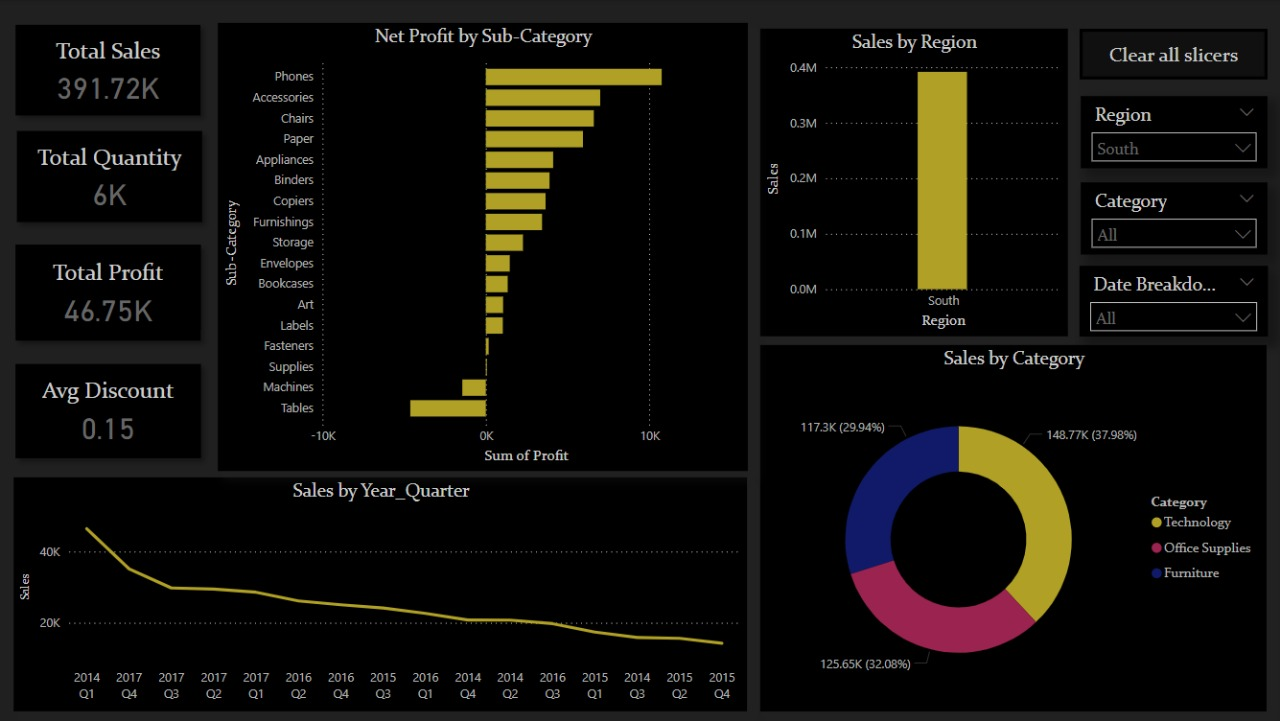

This screenshot's page, from the dashboard's own definition file:
{"tool":"powerbi","page":{"name":"Supermarket Sales Dashboard","canvas":[1280,720],"ordinal":0},"visuals":[{"type":"cardVisual","fields":{"Data":["Sum(Superstore Sales.Sales)"]},"box":[0,6.5,219.6,125.2],"z":0},{"type":"cardVisual","fields":{"Data":["Sum(Superstore Sales.Quantity)"]},"box":[1.6,113.9,219.6,125.2],"z":1000},{"type":"lineChart","title":"Sales by Year_Quarter","fields":{"Y":["Sum(Superstore_Sales.Sales)"],"Category":["Superstore_Sales.Year_Quarter"]},"box":[16.3,475,730.3,232.6],"z":2000},{"type":"clusteredColumnChart","fields":{"Category":["Superstore_Sales.Region"],"Y":["Sum(Superstore_Sales.Sales)"]},"box":[759.6,29.3,305.8,305.8],"z":3000},{"type":"donutChart","title":"Sales by Category","fields":{"Y":["Sum(Superstore_Sales.Sales)"],"Category":["Superstore_Sales.Category"]},"box":[759.6,343.2,504.2,364.3],"z":4000},{"type":"slicer","fields":{"Values":["Superstore_Sales.Region"]},"box":[1078.4,96,185.4,71.6],"z":5000},{"type":"slicer","fields":{"Values":["Superstore_Sales.Category"]},"box":[1078.4,182.2,185.4,71.6],"z":6000},{"type":"clusteredBarChart","title":"Net Profit by Sub-Category","fields":{"Category":["Superstore_Sales.Sub-Category"],"Y":["Sum(Superstore_Sales.Profit)"]},"box":[219.6,22.8,527,445.7],"z":7000},{"type":"cardVisual","fields":{"Data":["Sum(Superstore_Sales.Profit)"]},"box":[0,226.1,219.6,130.1],"z":8000},{"type":"cardVisual","fields":{"Data":["Superstore_Sales.Avg Discount"]},"box":[0,344.8,219.6,128.5],"z":9000},{"type":"slicer","fields":{"Values":["Superstore_Sales.Order Date.Variation.Date Hierarchy.Year","Superstore_Sales.Order Date.Variation.Date Hierarchy.Quarter","Superstore_Sales.Order Date.Variation.Date Hierarchy.Month","Superstore_Sales.Order Date.Variation.Date Hierarchy.Day"]},"box":[1076.8,265.1,187.1,69.9],"z":10000},{"type":"actionButton","box":[1076.8,29.3,187.1,50.4],"z":13000}]}

Visuals, with their boxes in screenshot pixels (x1, y1, x2, y2), scaled from the page's 1280x720 canvas onto the 1280x721 screenshot:
cardVisual - Sum(Superstore Sales.Sales): [0,7,220,132]
cardVisual - Sum(Superstore Sales.Quantity): [2,114,221,239]
"Sales by Year_Quarter" lineChart: [16,476,747,709]
clusteredColumnChart - Superstore_Sales.Region x Sum(Superstore_Sales.Sales): [760,29,1065,336]
"Sales by Category" donutChart: [760,344,1264,708]
slicer - Superstore_Sales.Region: [1078,96,1264,168]
slicer - Superstore_Sales.Category: [1078,182,1264,254]
"Net Profit by Sub-Category" clusteredBarChart: [220,23,747,469]
cardVisual - Sum(Superstore_Sales.Profit): [0,226,220,357]
cardVisual - Superstore_Sales.Avg Discount: [0,345,220,474]
slicer - Superstore_Sales.Order Date.Variation.Date Hierarchy.Year x Superstore_Sales.Order Date.Variation.Date Hierarchy.Quarter: [1077,265,1264,335]
actionButton: [1077,29,1264,80]
